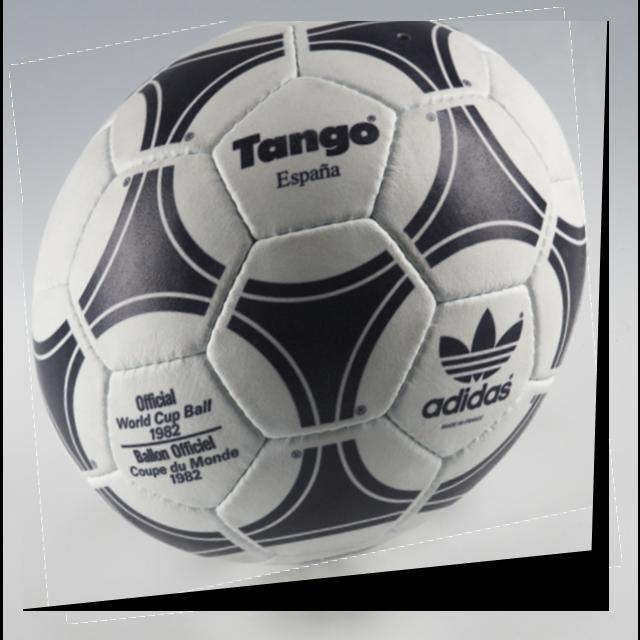Football: (23, 21, 609, 611)
